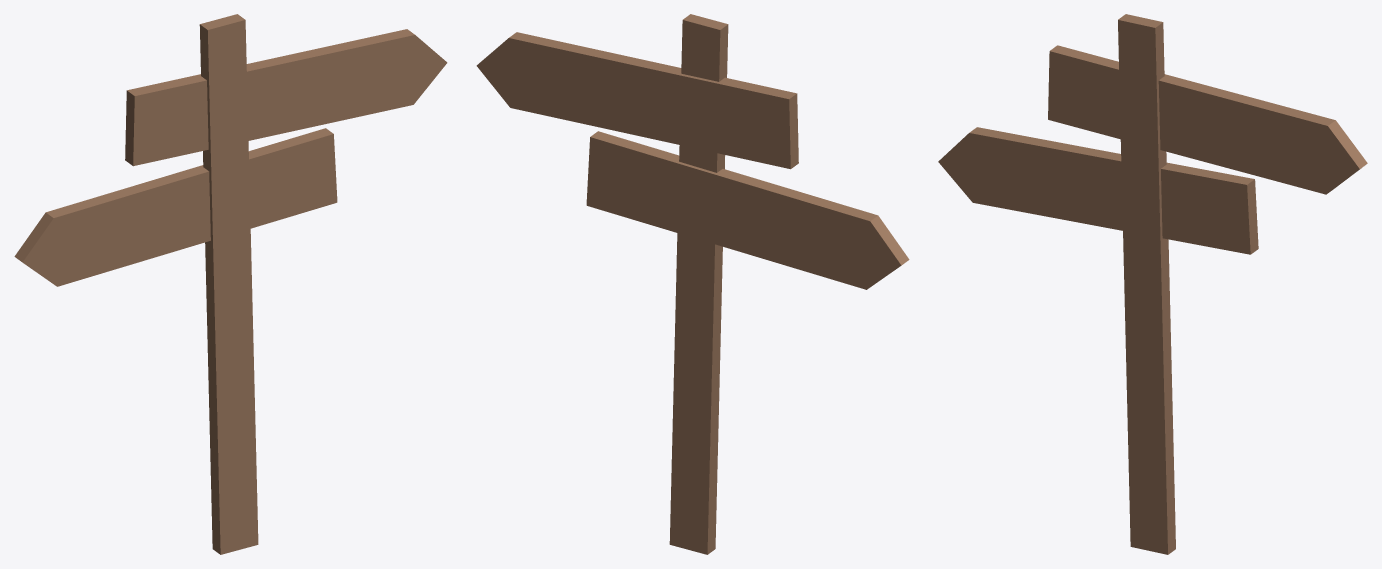
The model's file is Cruceta_caminos.fbx.
3 renders of one model, left to right at view 1: azimuth 30°, elevation 25°; view 2: azimuth 150°, elevation 25°; view 3: azimuth 330°, elevation 25°, orthographic.
Parts seen in each view (by area): view 1: Cruceta_caminos; view 2: Cruceta_caminos; view 3: Cruceta_caminos.
Part boxes in pixels (x1,y1,x2,y2): Cruceta_caminos: [14, 14, 447, 554]; Cruceta_caminos: [476, 14, 909, 554]; Cruceta_caminos: [938, 14, 1367, 554].
Size of the model in its own units: 2.11 by 2.51 by 0.0871.
